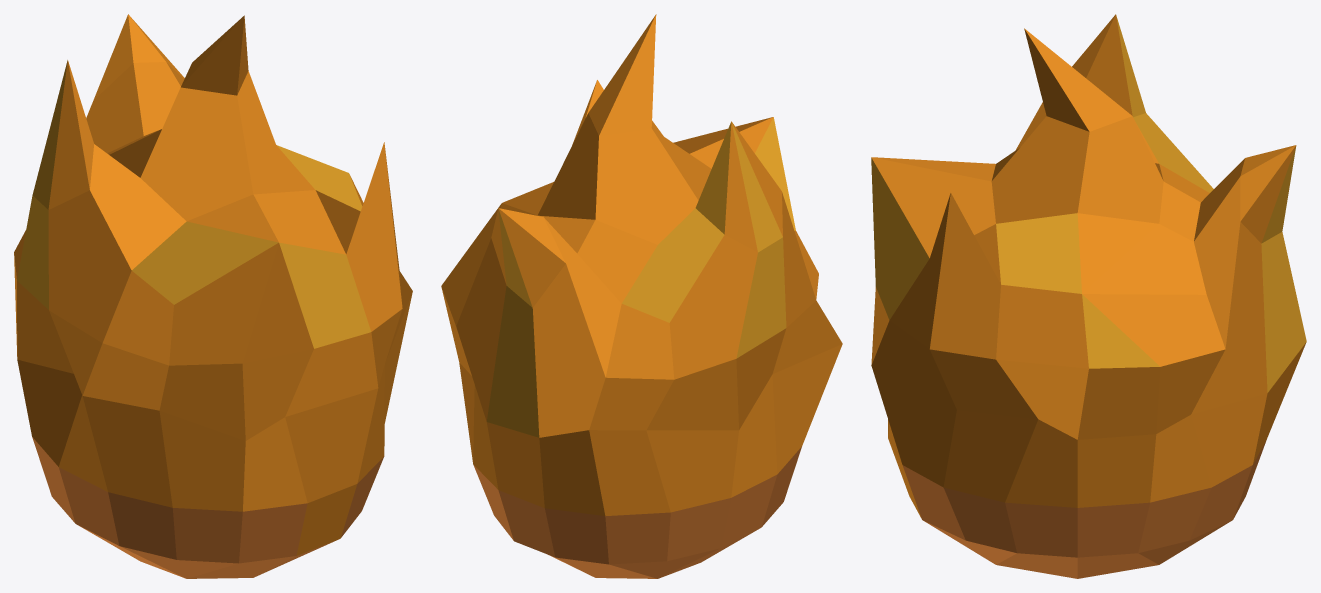
Rendered from fire.fbx.
3 renders of one model, left to right at view 1: azimuth 30°, elevation 25°; view 2: azimuth 150°, elevation 25°; view 3: azimuth 270°, elevation 25°, orthographic. The views are drawn at different scales.
Parts seen in each view (by area): view 1: fire; view 2: fire; view 3: fire.
Boxes of the visible parts, x1,y1,x2,y2 form: fire: (14, 14, 412, 578); fire: (441, 14, 842, 578); fire: (871, 14, 1306, 578).
Size of the model in its own units: 143 by 216 by 159.
